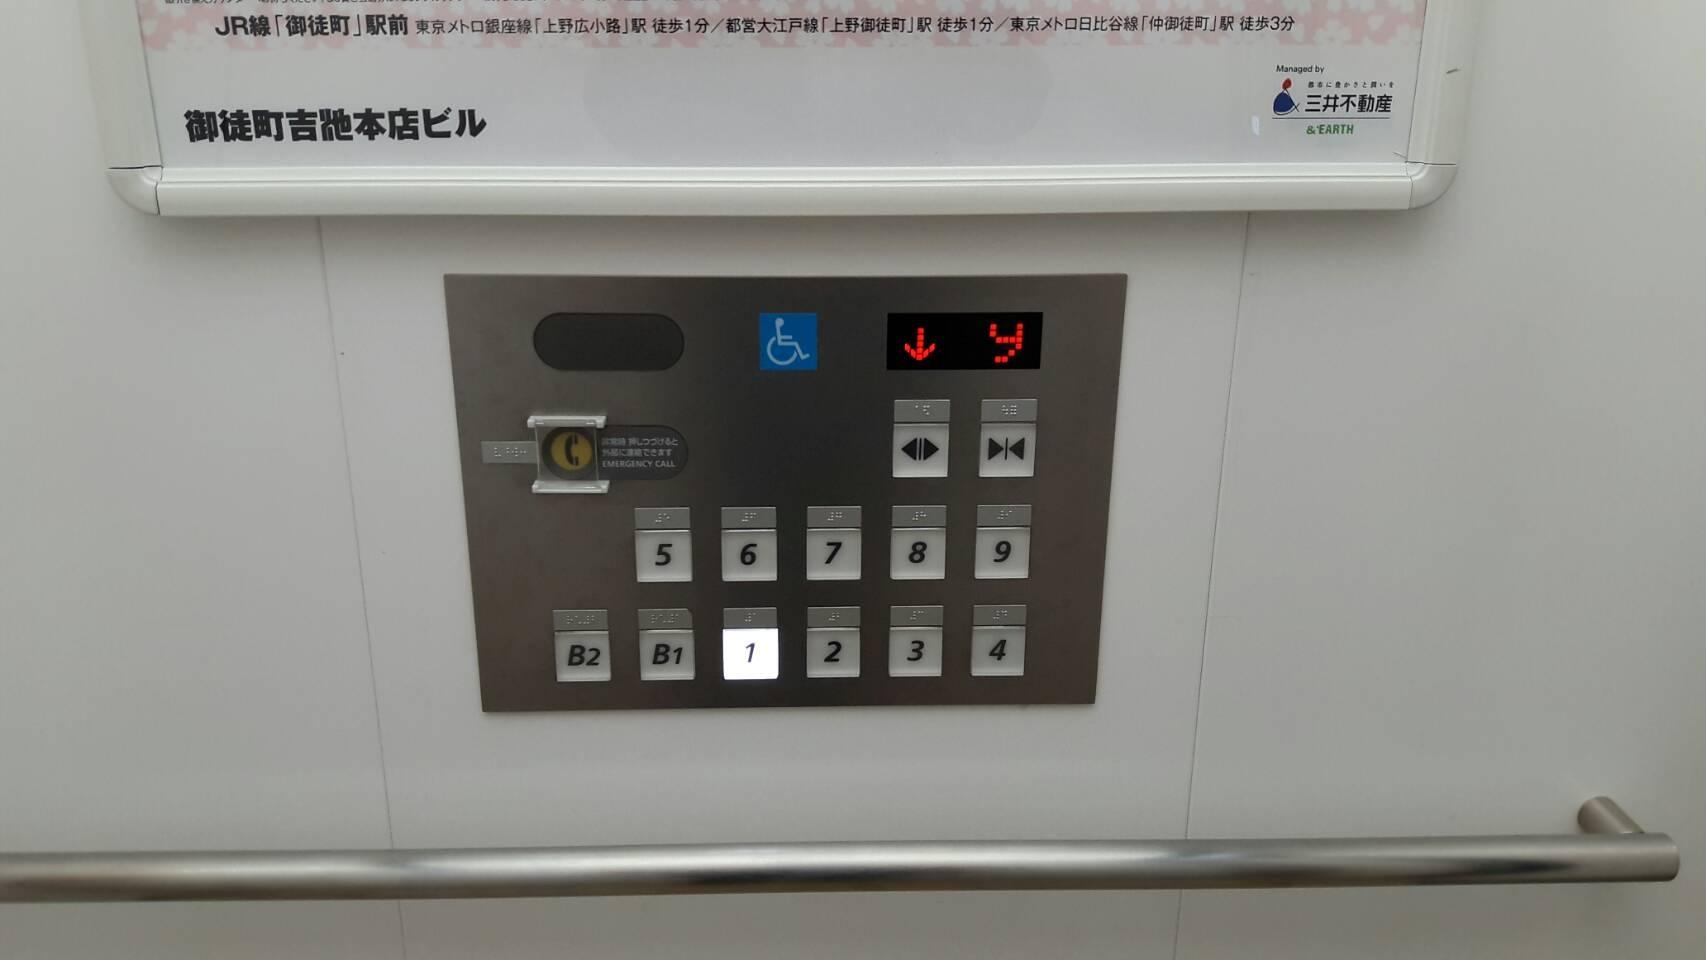1: (719, 626, 782, 685)
2: (801, 624, 864, 682)
3: (886, 624, 946, 682)
4: (965, 622, 1029, 681)
5: (632, 526, 695, 587)
6: (716, 525, 782, 585)
7: (801, 524, 865, 583)
8: (887, 525, 949, 585)
9: (969, 525, 1033, 583)
B1: (636, 627, 697, 685)
B2: (550, 628, 613, 685)
CH: (755, 308, 820, 374)
call: (523, 411, 613, 499)
close: (974, 421, 1038, 481)
led: (881, 306, 1046, 373)
open: (889, 422, 951, 481)
